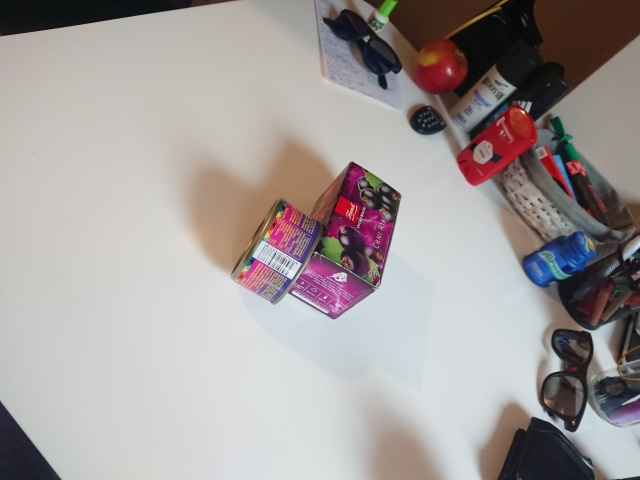Franck Black Currant Tea 60g: (281, 158, 405, 323)
Giana Tuna Salad Mexico 185g: (229, 195, 326, 308)
